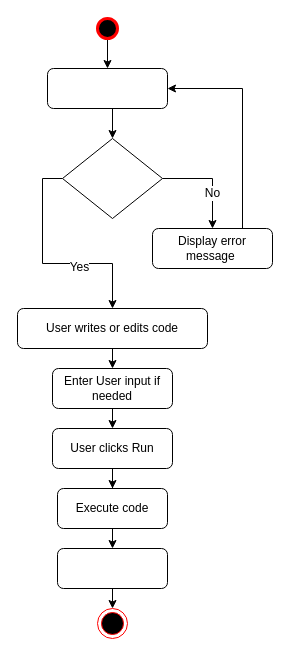
Image size: 290x656. Some labels were removed from this diagram. The centre of each missing label's shape, as x and y in pixels:
Display output: point 112,568
is Code editor Showing?: point 112,178
Open Code Editor: point 107,88
